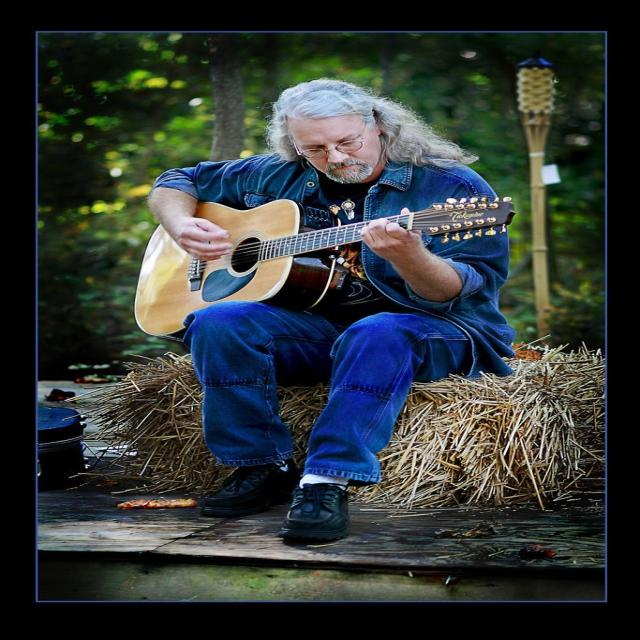guitar: (133, 193, 526, 341)
